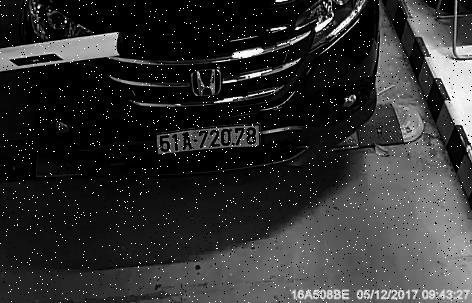License-plate: (158, 109, 266, 164)
